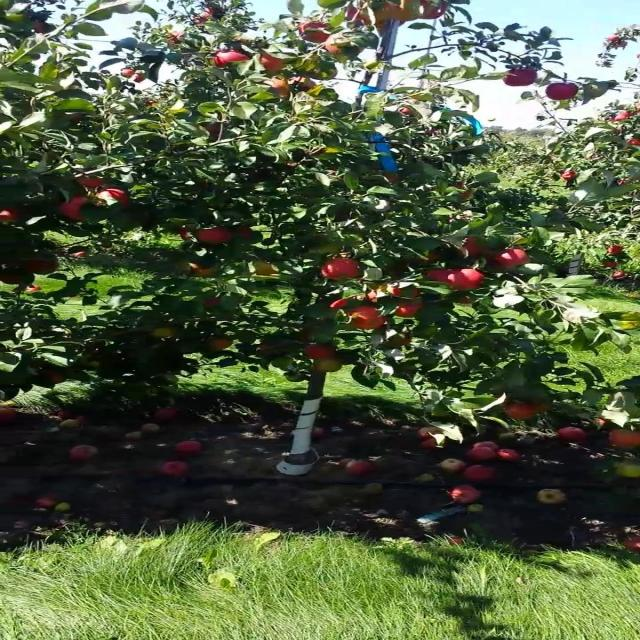apple: (348, 4, 396, 31), (348, 308, 391, 332), (369, 284, 420, 304), (404, 0, 448, 21), (490, 248, 532, 269), (326, 260, 363, 282), (504, 68, 540, 88), (454, 268, 485, 291), (298, 24, 332, 44), (376, 288, 421, 303), (63, 196, 87, 223), (212, 52, 251, 68), (390, 0, 418, 22), (198, 228, 233, 245), (547, 84, 581, 101), (177, 228, 213, 244), (461, 240, 494, 257), (504, 404, 537, 420), (305, 344, 336, 360), (28, 260, 60, 275), (397, 4, 423, 22), (99, 192, 130, 207), (419, 4, 448, 20), (312, 360, 345, 374), (426, 268, 453, 285), (611, 432, 639, 448), (291, 76, 320, 91), (397, 304, 425, 319), (262, 56, 286, 73), (269, 80, 292, 97), (191, 264, 217, 278), (77, 176, 107, 188), (120, 72, 148, 84), (390, 332, 412, 347), (333, 300, 361, 311), (255, 264, 279, 276), (6, 208, 25, 223), (205, 124, 224, 139), (234, 228, 256, 240), (212, 340, 235, 351), (454, 188, 475, 200), (177, 228, 196, 241), (156, 328, 178, 339), (49, 372, 66, 384), (326, 44, 343, 56), (6, 276, 25, 285), (28, 284, 43, 293), (561, 172, 576, 181), (461, 296, 475, 305), (205, 300, 220, 308)
